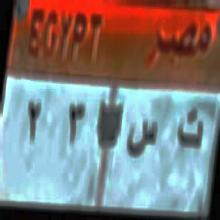2: (23, 90, 42, 148)
3: (65, 94, 86, 148)
seen: (126, 111, 158, 164)
taa: (172, 101, 202, 159)
